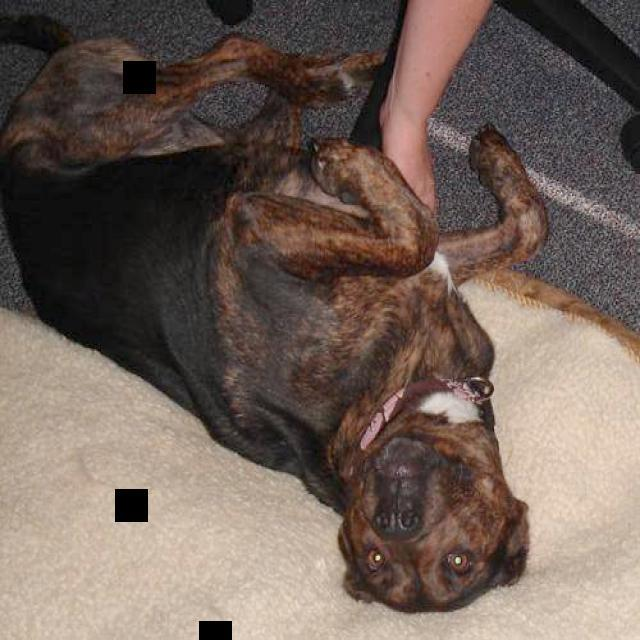adult_dog: (0, 5, 640, 614)
